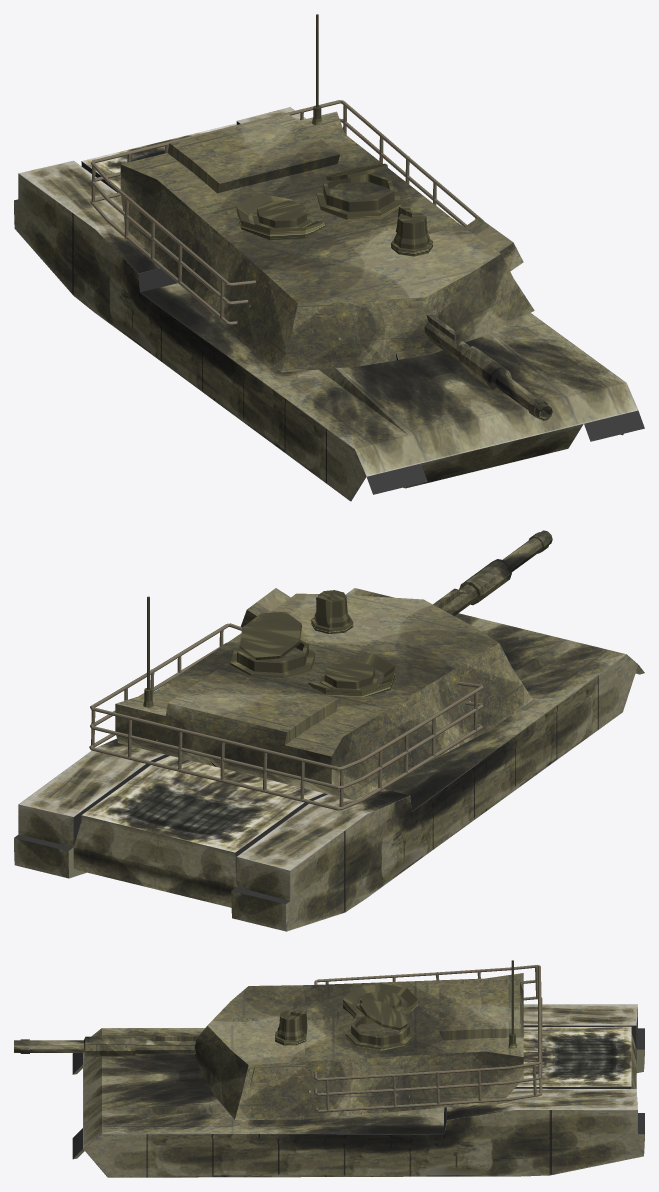
File: tankModel.fbx
3 views of the same model, one above another, from view 1: azimuth 30°, elevation 25°; view 2: azimuth 150°, elevation 25°; view 3: azimuth 270°, elevation 25° (orthographic). The views are drawn at different scales.
Visible parts, largest first — view 1: tankTop, tankBase, tankCannon; view 2: tankBase, tankTop, tankCannon; view 3: tankBase, tankTop, tankCannon.
Boxes of the visible parts, x1=… form: tankTop: x1=90, y1=14, x2=534, y2=372; tankBase: x1=14, y1=107, x2=644, y2=501; tankCannon: x1=423, y1=314, x2=552, y2=420; tankBase: x1=14, y1=588, x2=644, y2=931; tankTop: x1=89, y1=588, x2=532, y2=810; tankCannon: x1=433, y1=530, x2=552, y2=615; tankBase: x1=72, y1=1004, x2=644, y2=1177; tankTop: x1=194, y1=960, x2=542, y2=1119; tankCannon: x1=14, y1=1034, x2=199, y2=1056.
Size of the model in its own units: 10.21 by 8.87 by 25.75.
